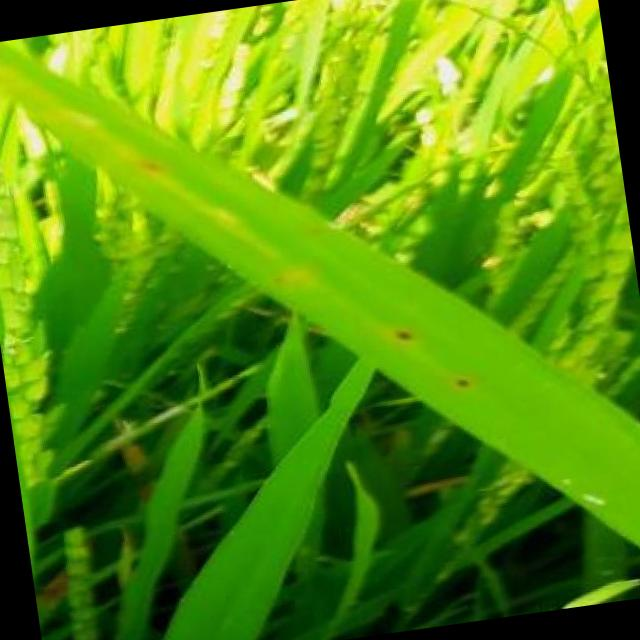Rice_Brownspot: (128, 148, 164, 178), (383, 318, 416, 348), (444, 367, 476, 397), (264, 266, 294, 294), (298, 218, 328, 245)
